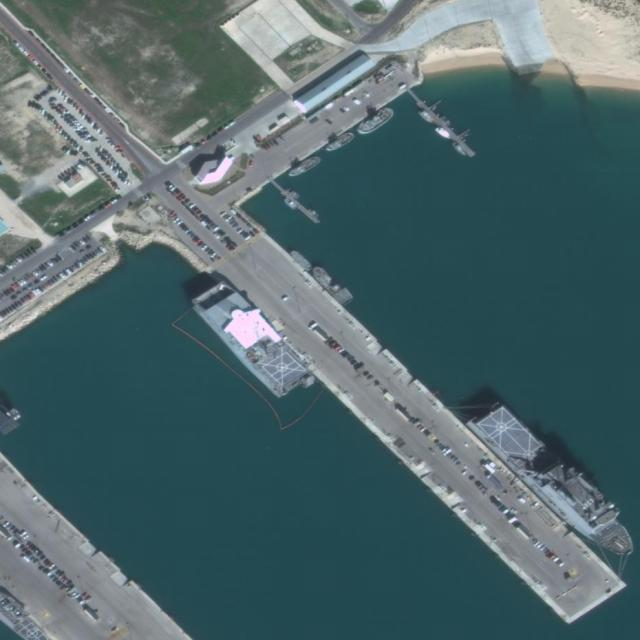Auxiliary Ships: (185, 270, 313, 405)
Dock: (189, 201, 627, 634)
Landing: (466, 394, 639, 565)
Other Warship: (354, 104, 396, 140), (286, 153, 321, 182), (323, 129, 356, 157)
